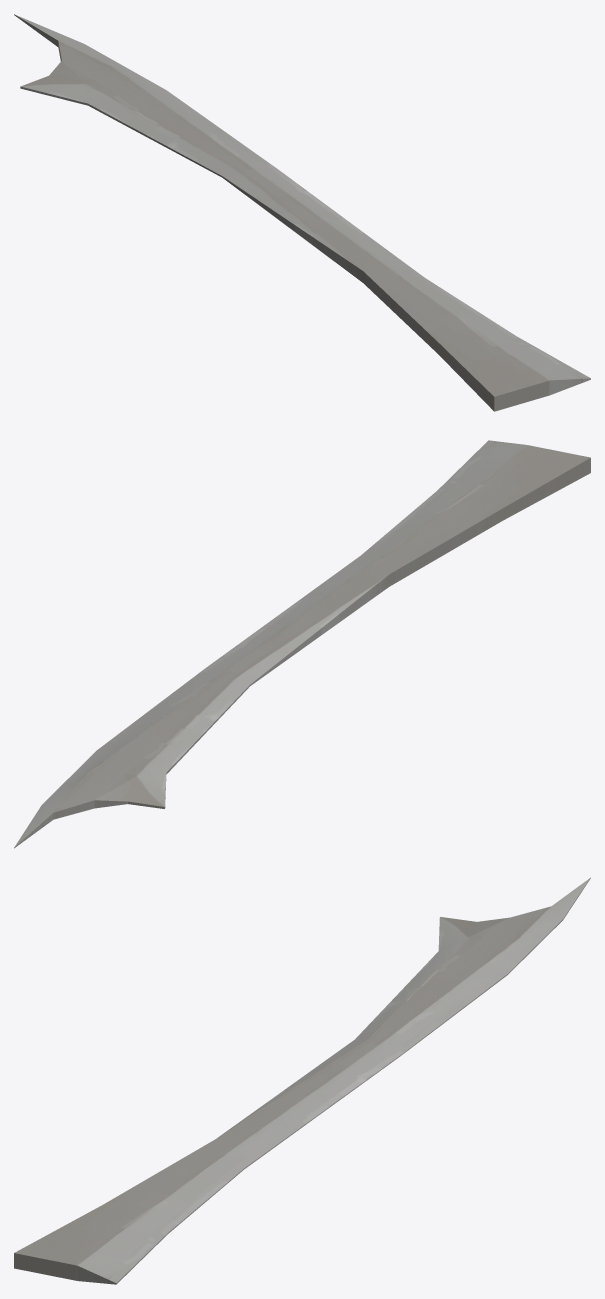
Rendered from blade2.FBX.
The picture shows the model from 3 angles, top to bottom: view 1: azimuth 30°, elevation 25°; view 2: azimuth 150°, elevation 25°; view 3: azimuth 330°, elevation 25°; orthographic projection. The views are drawn at different scales.
Parts seen in each view (by area): view 1: blade002; view 2: blade002; view 3: blade002.
Part boxes in pixels (x1,y1,x2,y2): blade002: [14, 14, 590, 411]; blade002: [14, 440, 590, 848]; blade002: [14, 877, 590, 1284].
Bounding box in the file's own units: 0.3498 × 2.44 × 0.0387.
